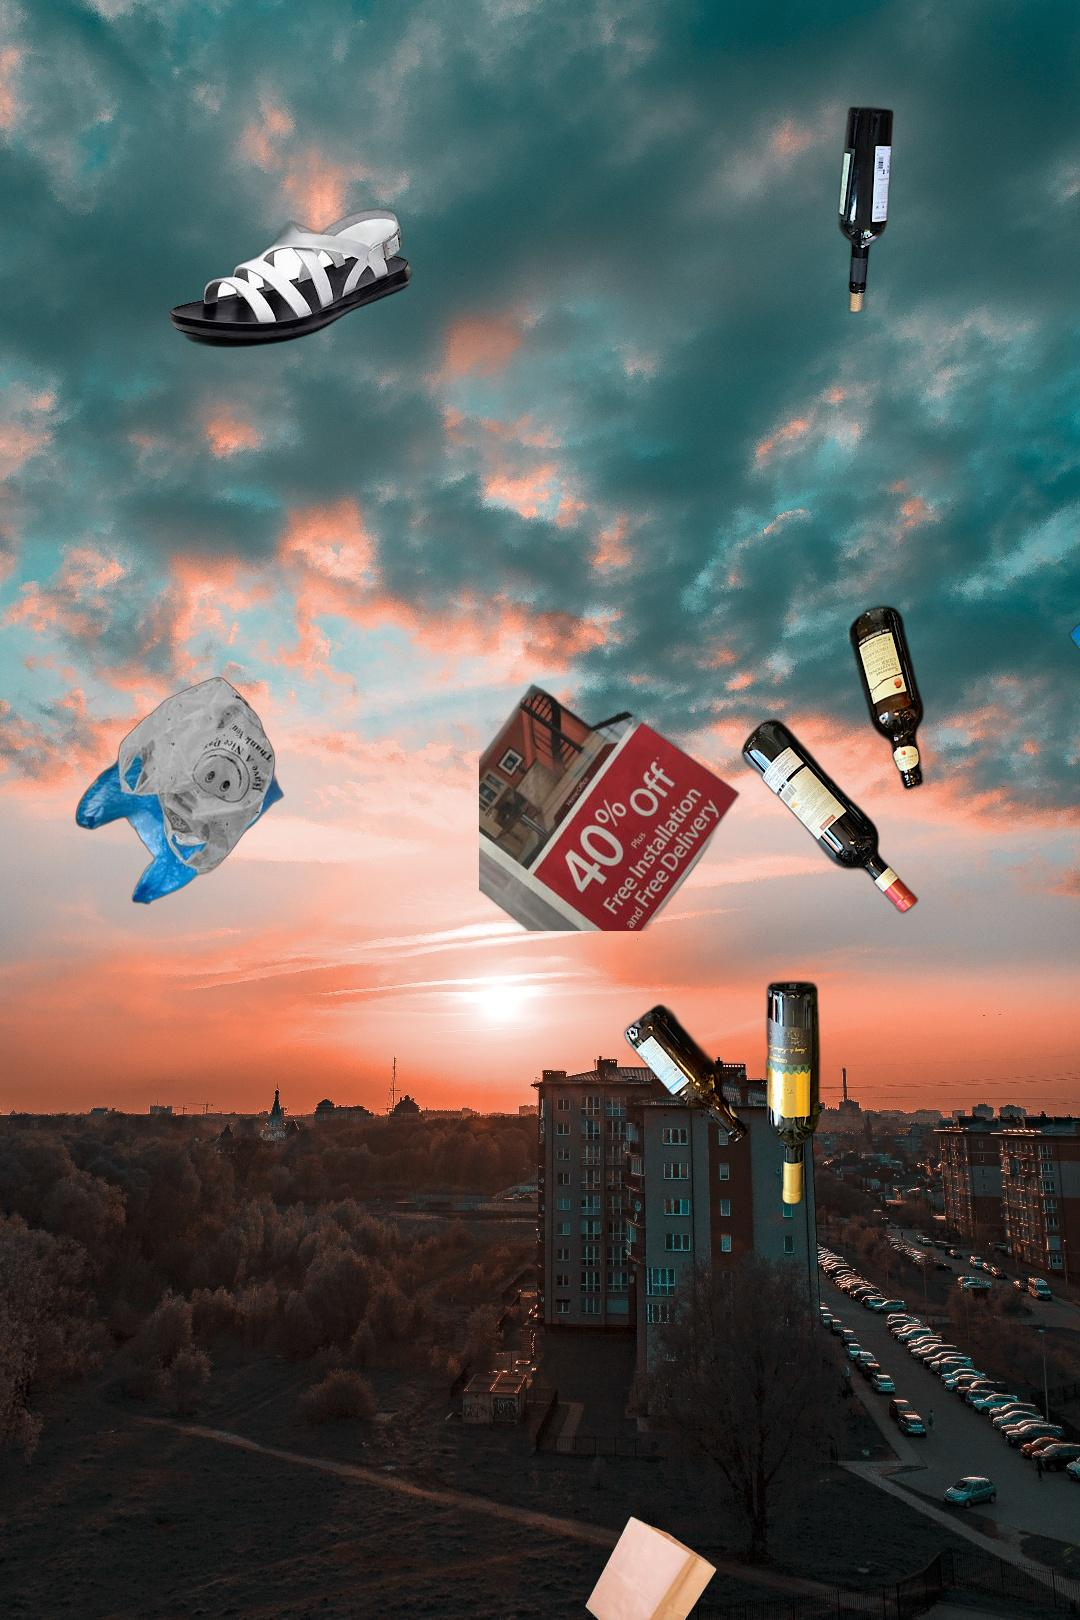biological: (873, 1449, 1080, 1620)
glass: (620, 599, 928, 1210), (835, 102, 898, 319)
paper: (479, 607, 991, 931)
paper-bag: (585, 1515, 718, 1620)
plastic-bag: (74, 674, 286, 906), (1068, 552, 1080, 769)
shoes: (166, 206, 415, 350)
